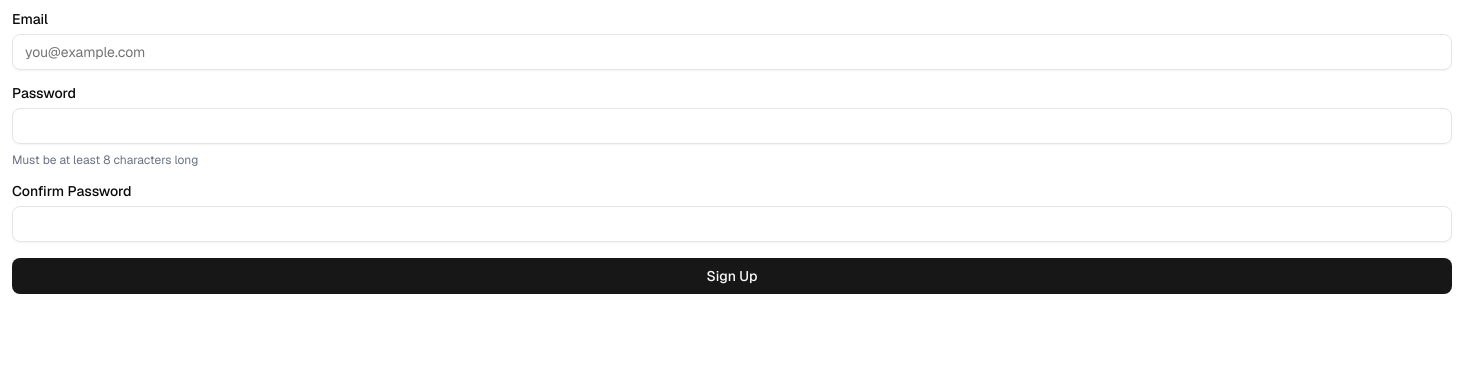
Test: shows error when passwords do not match
The image size is (1464, 365).
Type "new@example.com" into the field labelled "Email" at (732, 52), box [12,34,1452,70]
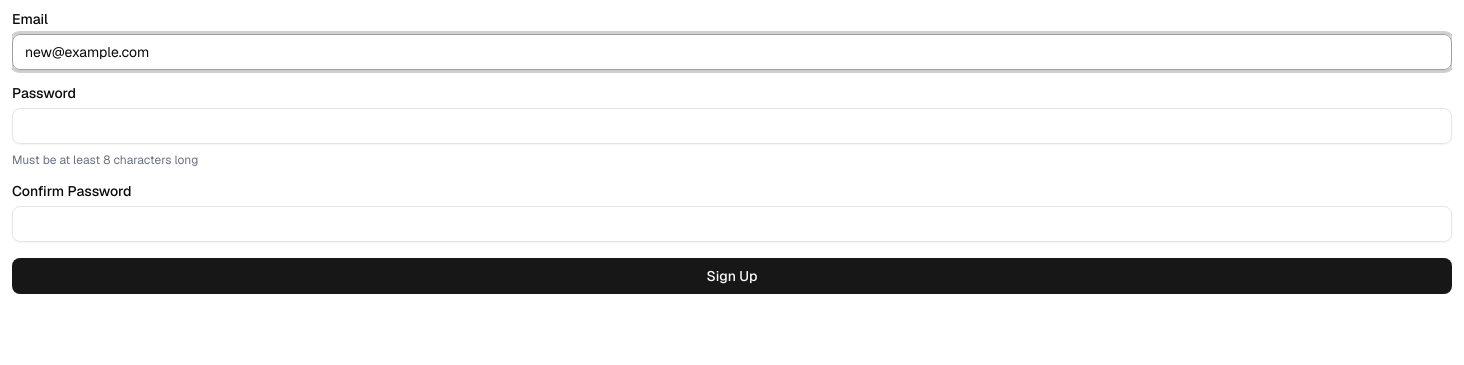
Type "password123" into the password field labelled "Password" at (732, 126), box [12,108,1452,144]
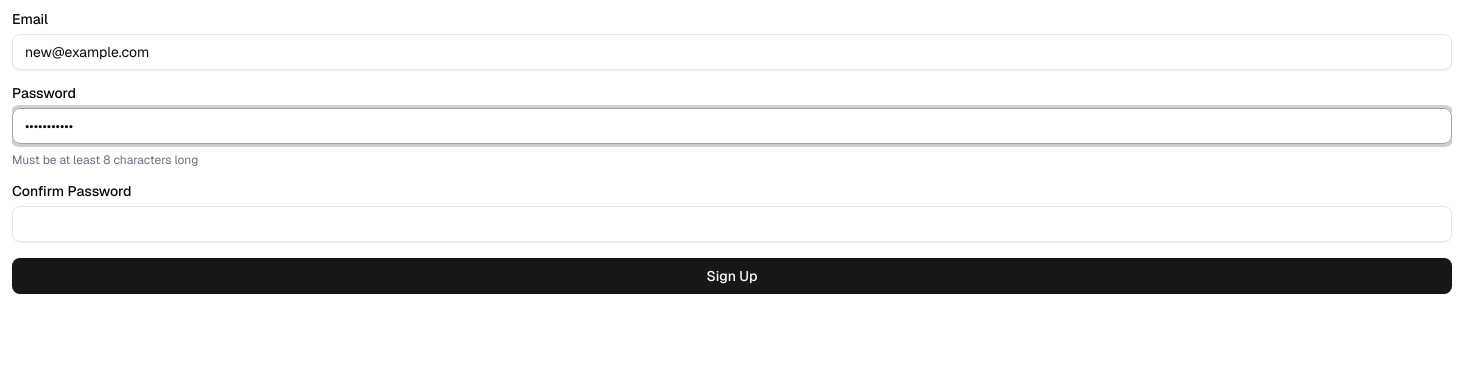
Type "different" into the password field labelled "Confirm Password" at (732, 224), box [12,206,1452,242]
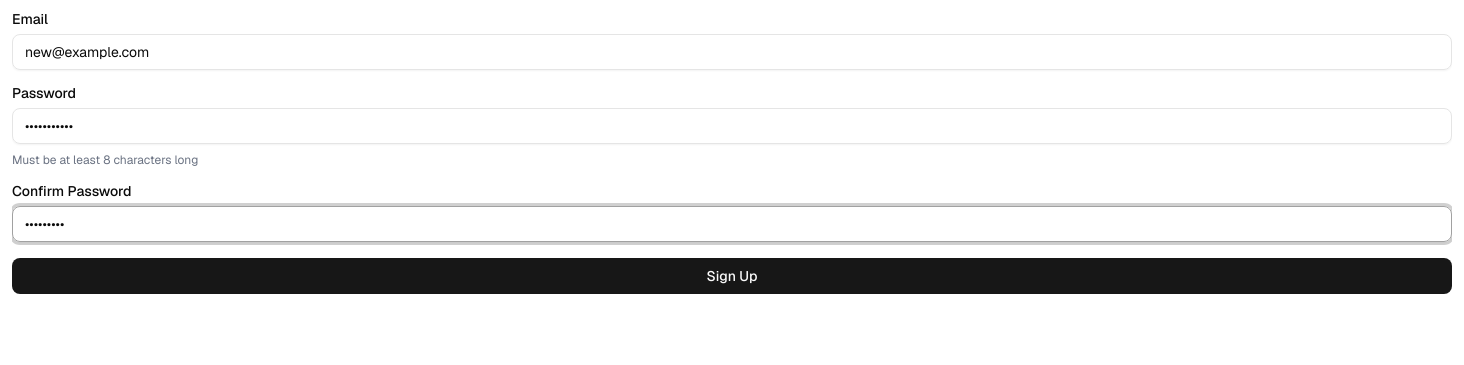
Submit the form "Sign Up"
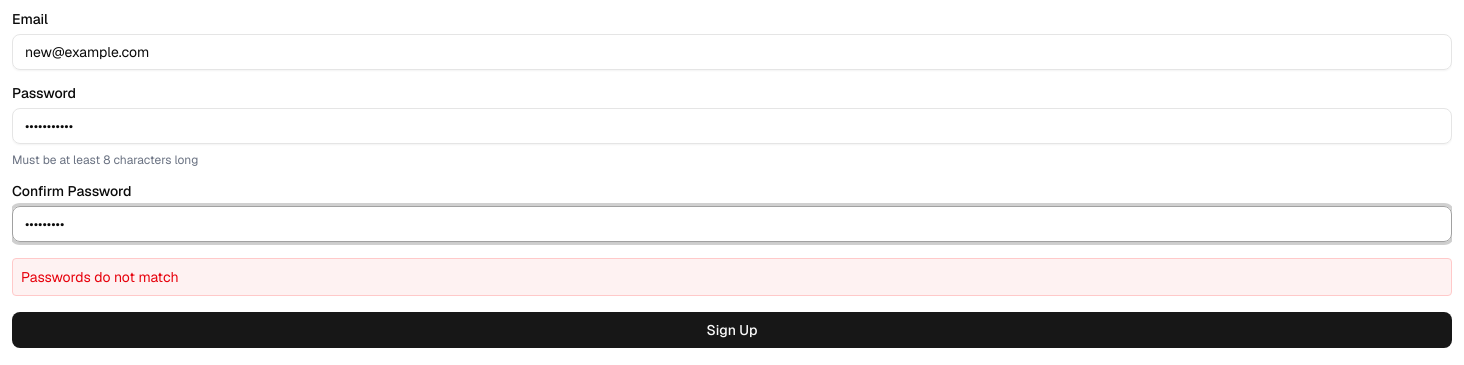
Expected: the text "Passwords do not match" is shown, [12,258,1452,296]
